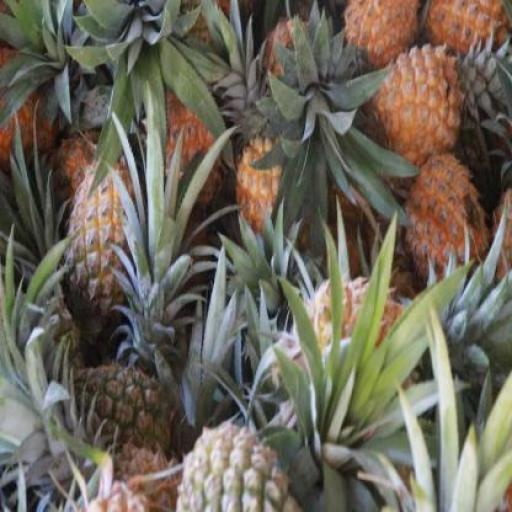------------------------------: (68, 165, 138, 319)
Pineapple - v8 v1: (401, 157, 491, 287), (374, 48, 460, 170), (422, 0, 511, 74), (343, 3, 418, 72)
